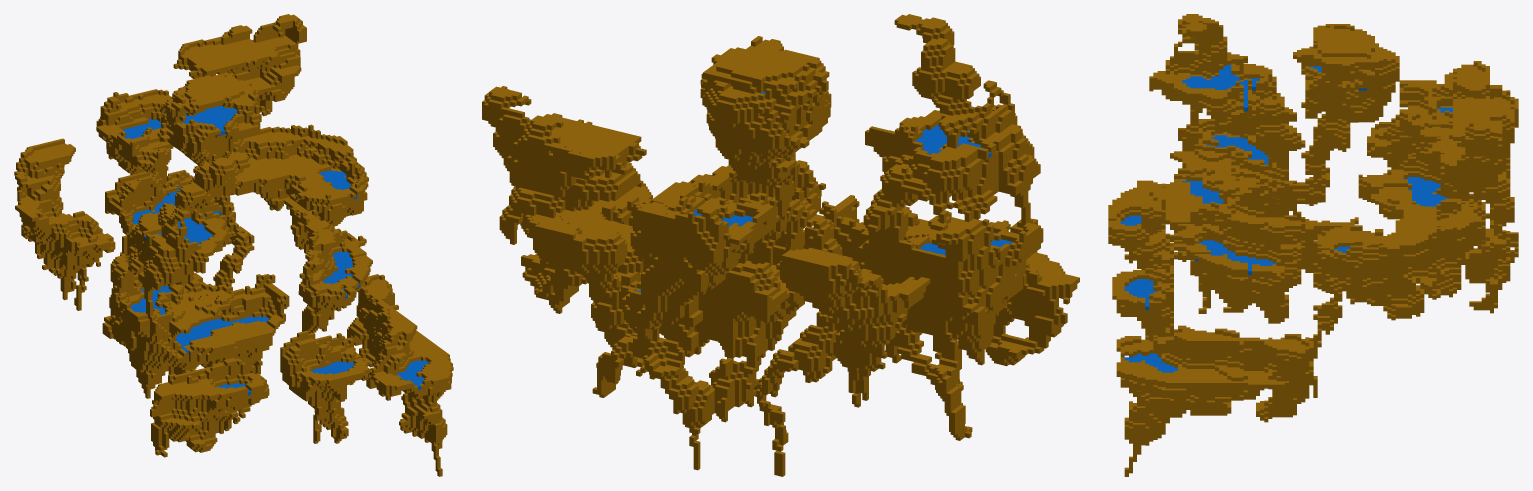
Rendered from Waterfalls.obj.
3 views of the same model, side by side, from view 1: azimuth 30°, elevation 25°; view 2: azimuth 150°, elevation 25°; view 3: azimuth 270°, elevation 25° (orthographic). The views are drawn at different scales.
Size of the model in its own units: 95 by 99 by 100.
1 material, 1 textured.
